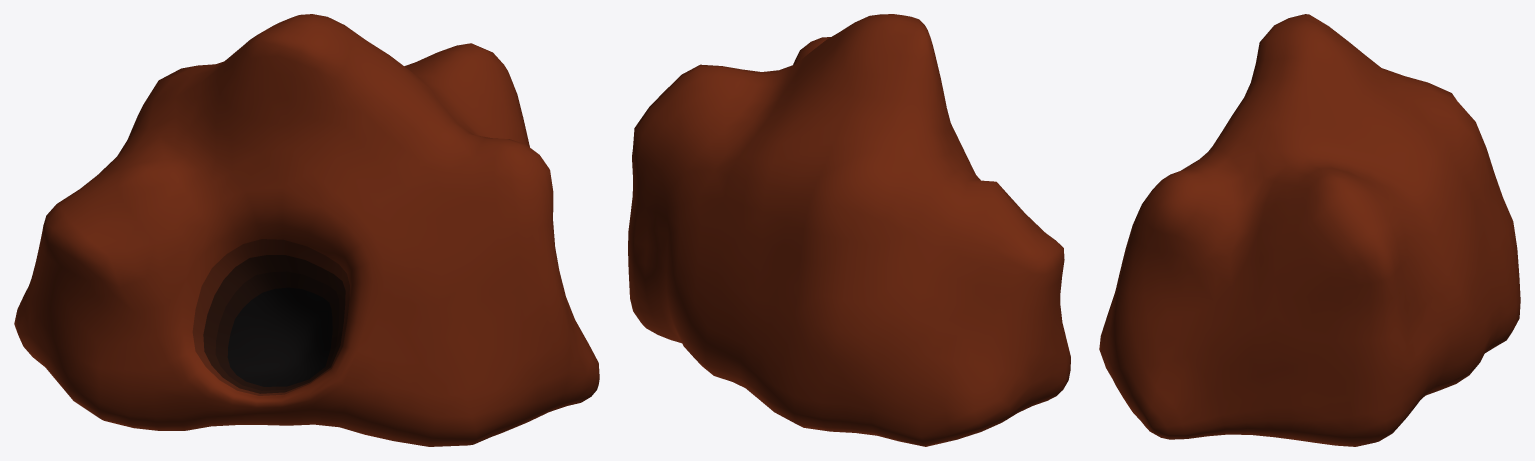
Rendered from ANTHILL_II_00I.fbx.
The picture shows the model from 3 angles, left to right: view 1: azimuth 30°, elevation 25°; view 2: azimuth 150°, elevation 25°; view 3: azimuth 270°, elevation 25°; orthographic projection. The views are drawn at different scales.
Visible parts, largest first — view 1: ANTHILL_II_00I; view 2: ANTHILL_II_00I; view 3: ANTHILL_II_00I.
Part boxes in pixels (x1=…): ANTHILL_II_00I: x1=14, y1=14, x2=599, y2=446; ANTHILL_II_00I: x1=628, y1=14, x2=1070, y2=446; ANTHILL_II_00I: x1=1099, y1=14, x2=1520, y2=446.
Size of the model in its own units: 3.16 by 2.47 by 2.83.
